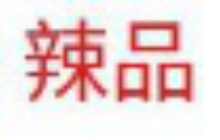TextView: (1, 1, 219, 139)
